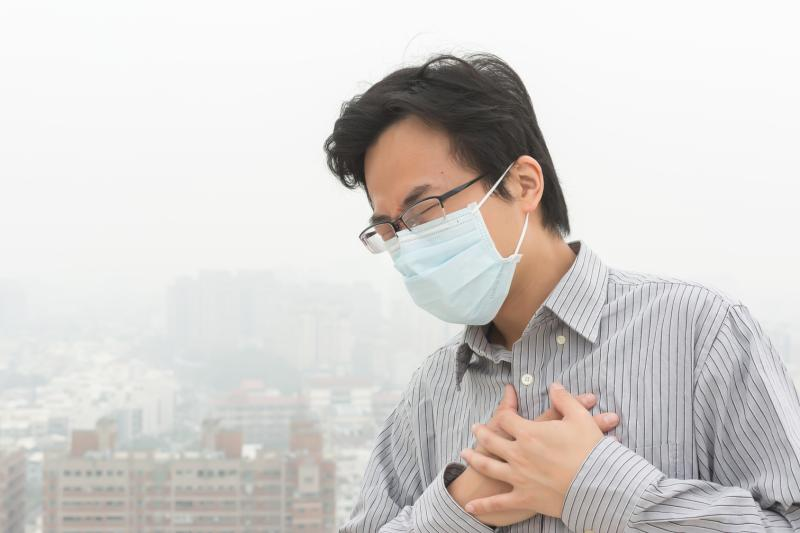surgical: (371, 195, 529, 326)
